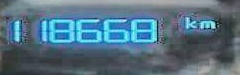1: (11, 19, 20, 40), (39, 19, 46, 41)
6: (74, 18, 101, 42), (101, 18, 128, 42)
8: (47, 18, 74, 42), (130, 17, 157, 41)
X: (183, 16, 195, 28), (198, 20, 215, 28)
